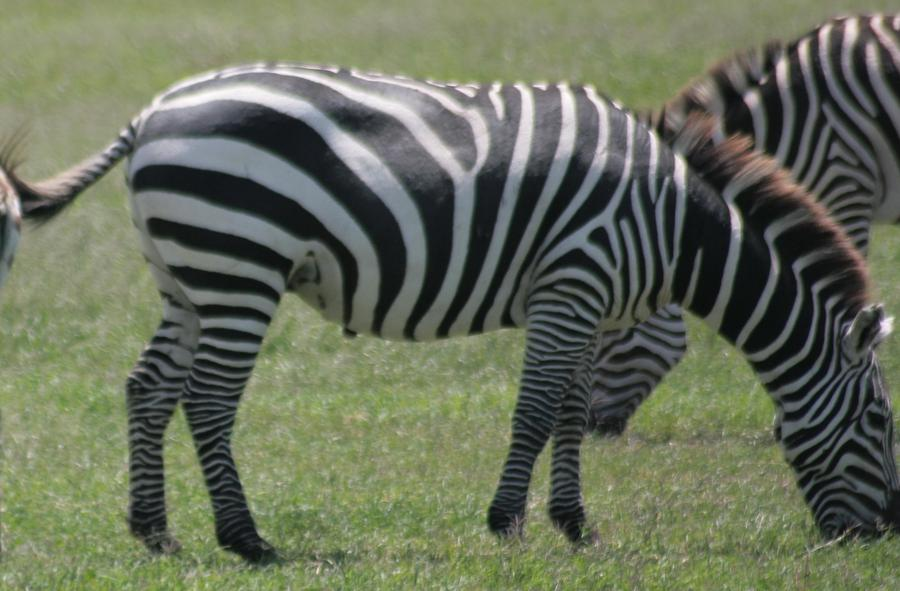zebra_plains: (131, 44, 647, 346)
